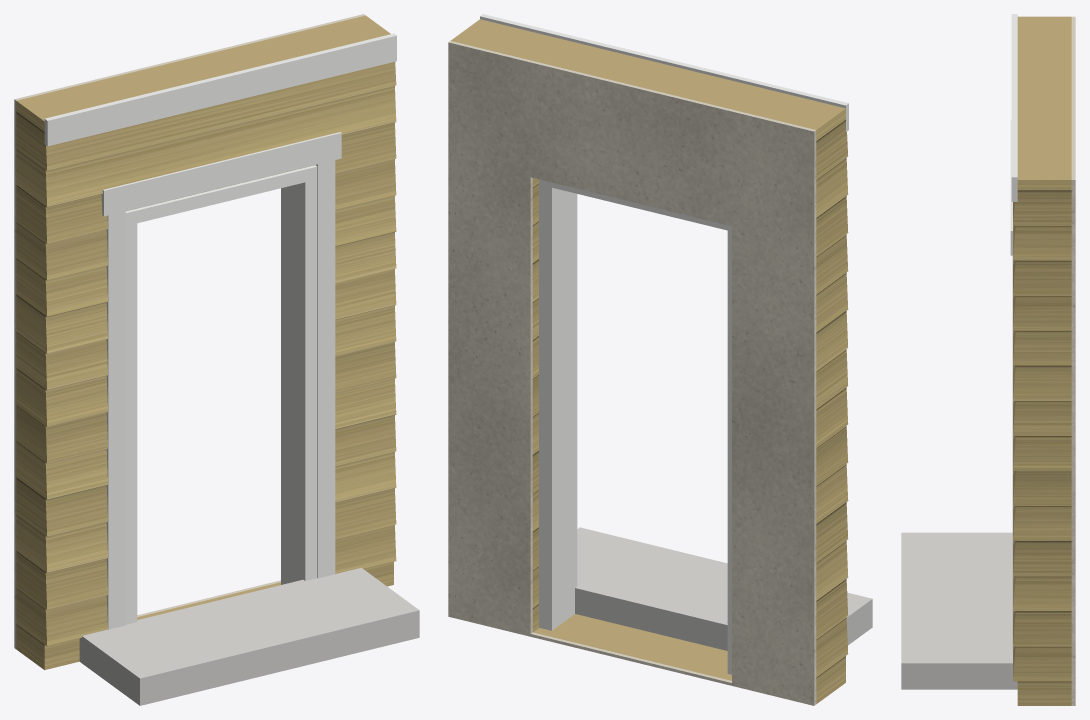
The model's file is wall_siding_door_back.glb.
3 renders of one model, left to right at view 1: azimuth 30°, elevation 25°; view 2: azimuth 150°, elevation 25°; view 3: azimuth 270°, elevation 25°, orthographic. The views are drawn at different scales.
Parts seen in each view (by area): view 1: wall_siding_door_back_siding, wall_siding_door_back_trim, wall_siding_door_back_concrete, wall_siding_door_back_frame, wall_siding_door_back_plaster; view 2: wall_siding_door_back_plaster, wall_siding_door_back_siding, wall_siding_door_back_frame, wall_siding_door_back_concrete, wall_siding_door_back_trim; view 3: wall_siding_door_back_siding, wall_siding_door_back_concrete, wall_siding_door_back_plaster, wall_siding_door_back_trim.
Part boxes in pixels (x1=…): wall_siding_door_back_siding: x1=16, y1=15, x2=396, y2=669; wall_siding_door_back_trim: x1=44, y1=33, x2=396, y2=629; wall_siding_door_back_concrete: x1=79, y1=567, x2=419, y2=705; wall_siding_door_back_frame: x1=125, y1=165, x2=317, y2=624; wall_siding_door_back_plaster: x1=14, y1=14, x2=365, y2=648; wall_siding_door_back_plaster: x1=448, y1=41, x2=816, y2=705; wall_siding_door_back_siding: x1=450, y1=19, x2=848, y2=703; wall_siding_door_back_frame: x1=539, y1=179, x2=731, y2=674; wall_siding_door_back_concrete: x1=575, y1=527, x2=872, y2=650; wall_siding_door_back_trim: x1=480, y1=14, x2=848, y2=131; wall_siding_door_back_siding: x1=1013, y1=16, x2=1071, y2=705; wall_siding_door_back_concrete: x1=901, y1=532, x2=1017, y2=689; wall_siding_door_back_plaster: x1=1071, y1=16, x2=1075, y2=705; wall_siding_door_back_trim: x1=1010, y1=14, x2=1017, y2=650.
Size of the model in its own units: 2 by 3.02 by 0.9.
5 materials, 2 textured.
